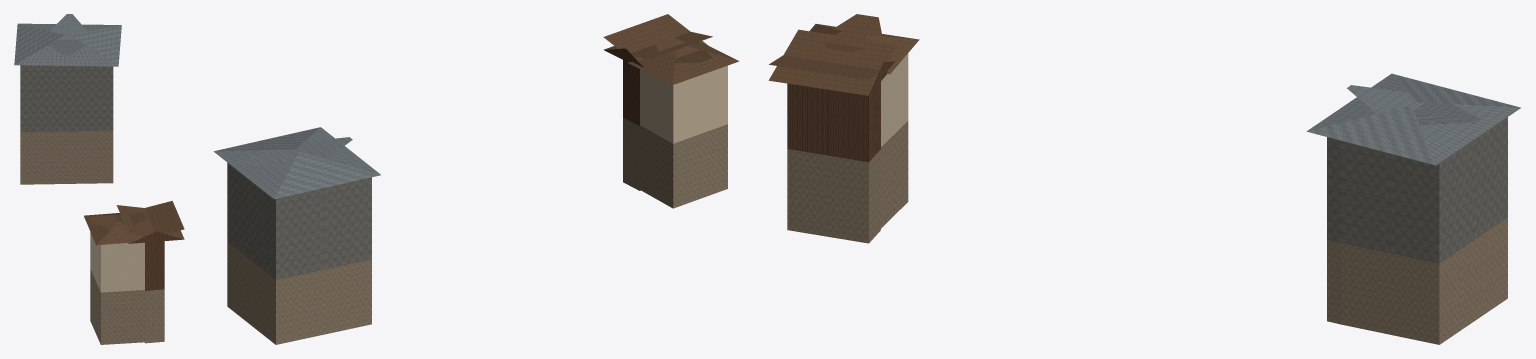
The model's file is bld_c11_29_394.gltf.
3 views of the same model, side by side, from view 1: azimuth 30°, elevation 25°; view 2: azimuth 150°, elevation 25°; view 3: azimuth 270°, elevation 25° (orthographic). The views are drawn at different scales.
Parts seen in each view (by area): view 1: bld_c11_29_394; view 2: bld_c11_29_394; view 3: bld_c11_29_394.
Boxes of the visible parts, box(x1,y1,x2,y2) form: bld_c11_29_394: box(14, 14, 184, 344); bld_c11_29_394: box(213, 14, 739, 344); bld_c11_29_394: box(768, 14, 1520, 344).
Bounding box in the file's own units: 22.91 × 12.9 × 42.69.
Materials: 7 (7 with a texture image).
